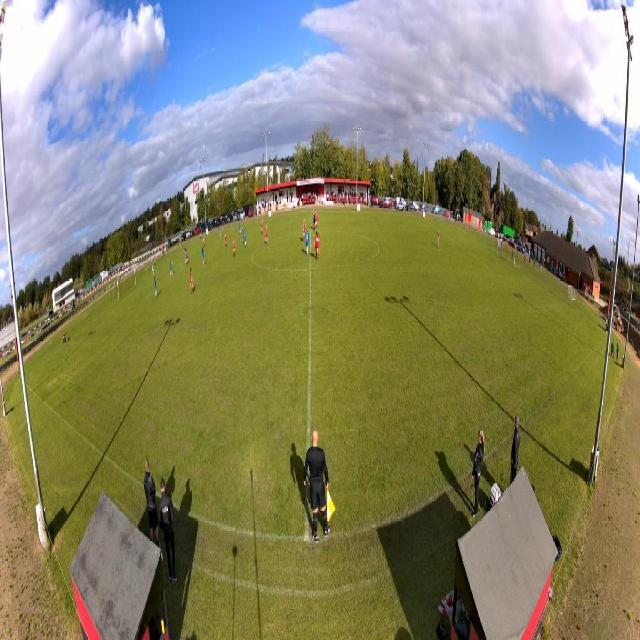ball: (154, 272, 155, 276)
player: (314, 231, 321, 260), (313, 206, 318, 231), (189, 267, 193, 295), (305, 229, 309, 256), (264, 224, 269, 245), (232, 235, 236, 257), (202, 246, 206, 267), (169, 258, 173, 277), (303, 218, 306, 243), (313, 207, 316, 231), (261, 218, 265, 236), (224, 231, 228, 249), (154, 275, 157, 299), (244, 228, 247, 249), (241, 226, 244, 245), (185, 248, 188, 266), (185, 245, 188, 262), (239, 220, 242, 236), (437, 229, 439, 248), (152, 265, 155, 276), (219, 224, 221, 238), (203, 233, 205, 247)
